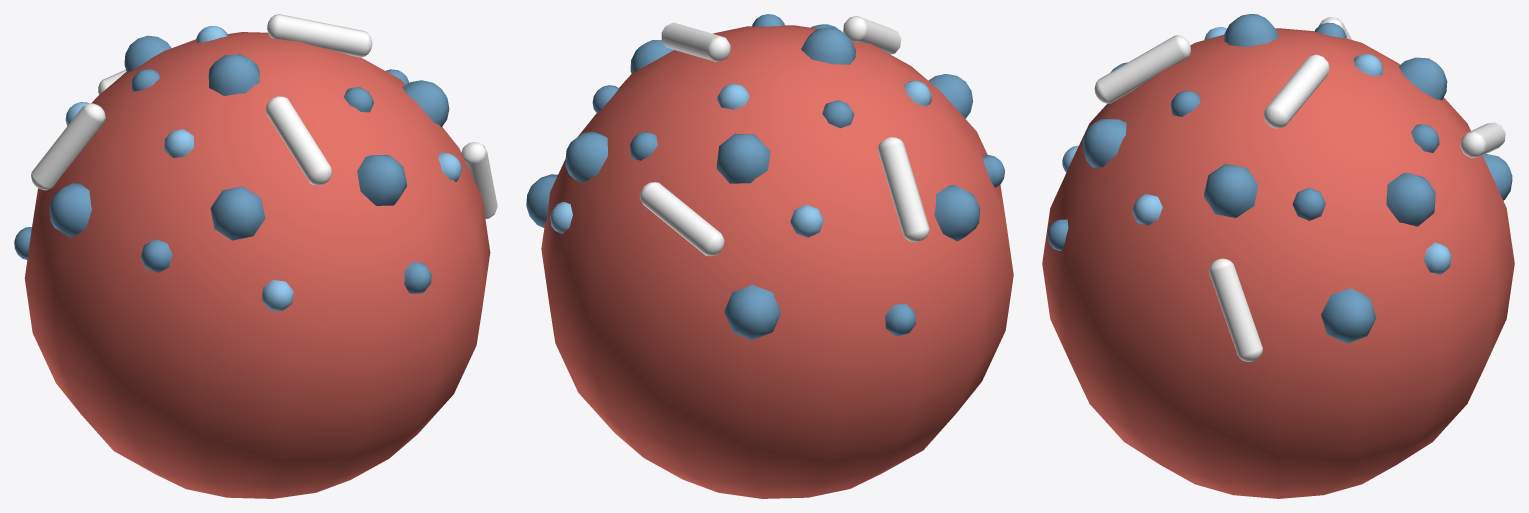
File: SM_cakepop3.fbx
3 views of the same model, side by side, from view 1: azimuth 30°, elevation 25°; view 2: azimuth 150°, elevation 25°; view 3: azimuth 270°, elevation 25° (orthographic).
Visible parts, largest first — view 1: SM_cakepop3; view 2: SM_cakepop3; view 3: SM_cakepop3.
Part boxes in pixels (x1,y1,x2,y2): SM_cakepop3: (14, 14, 497, 498); SM_cakepop3: (526, 14, 1013, 498); SM_cakepop3: (1042, 14, 1514, 498).
Size of the model in its own units: 175 by 173 by 167.
